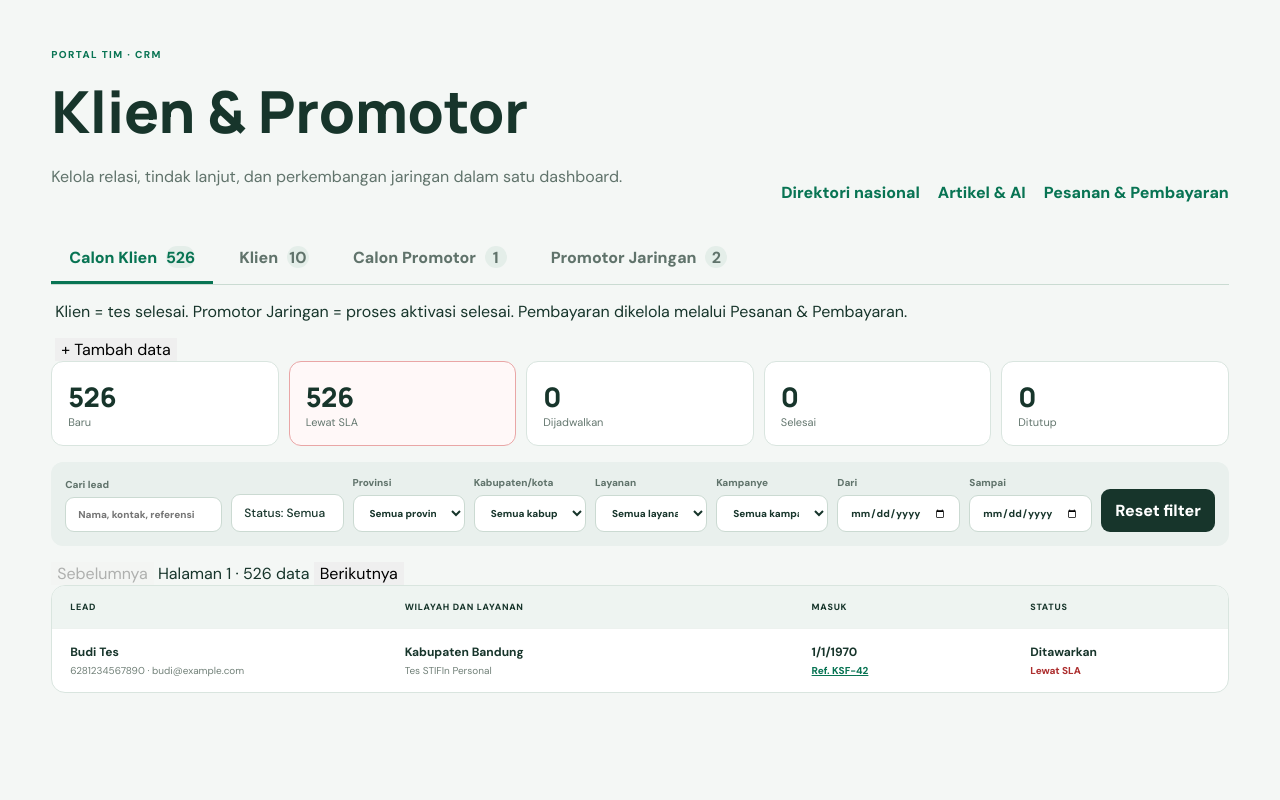
Scenario: LeadManager server queries › ignores an old list response that resolves after a newer search
This screenshot has width=1280, height=800.
Type "Old" into the field labelled "Cari lead" at (144, 514), box [65,497,222,532]
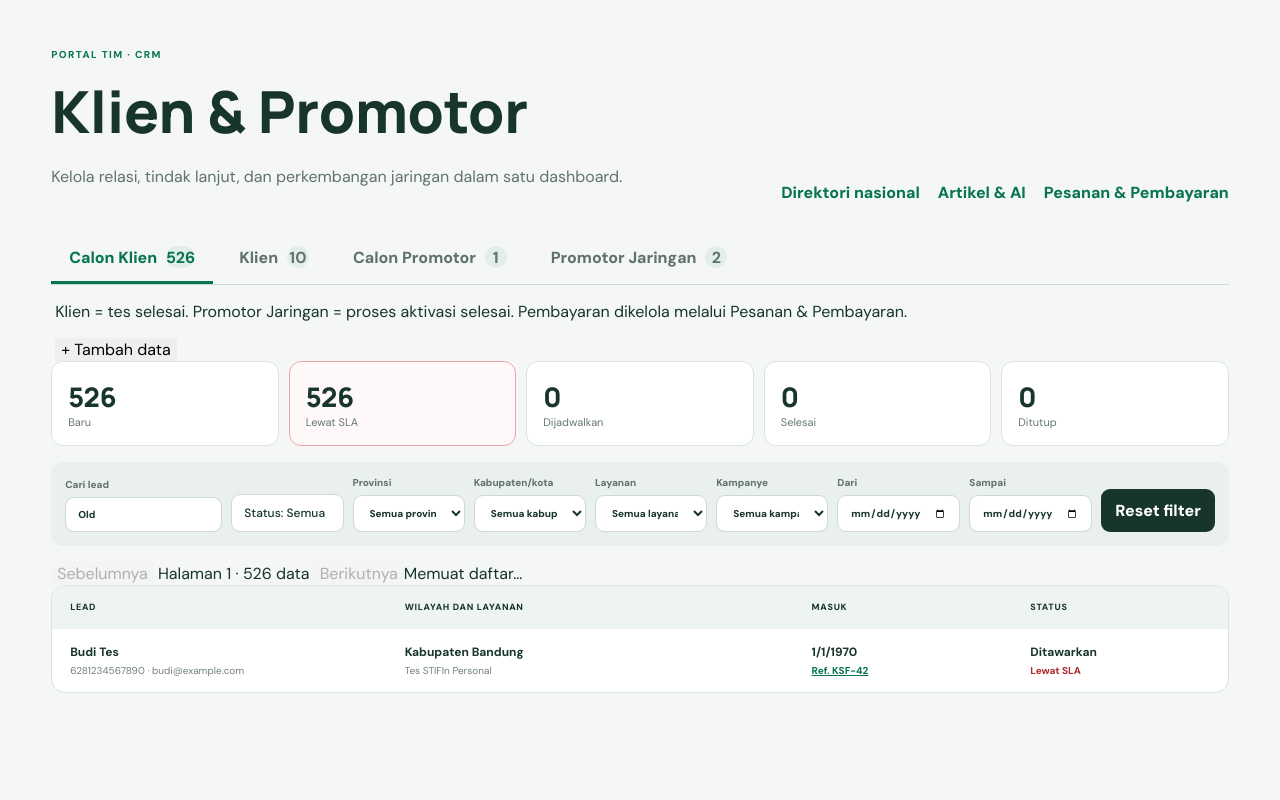
Replace the text in the field labelled "Cari lead" with "New" at (144, 514), box [65,497,222,532]
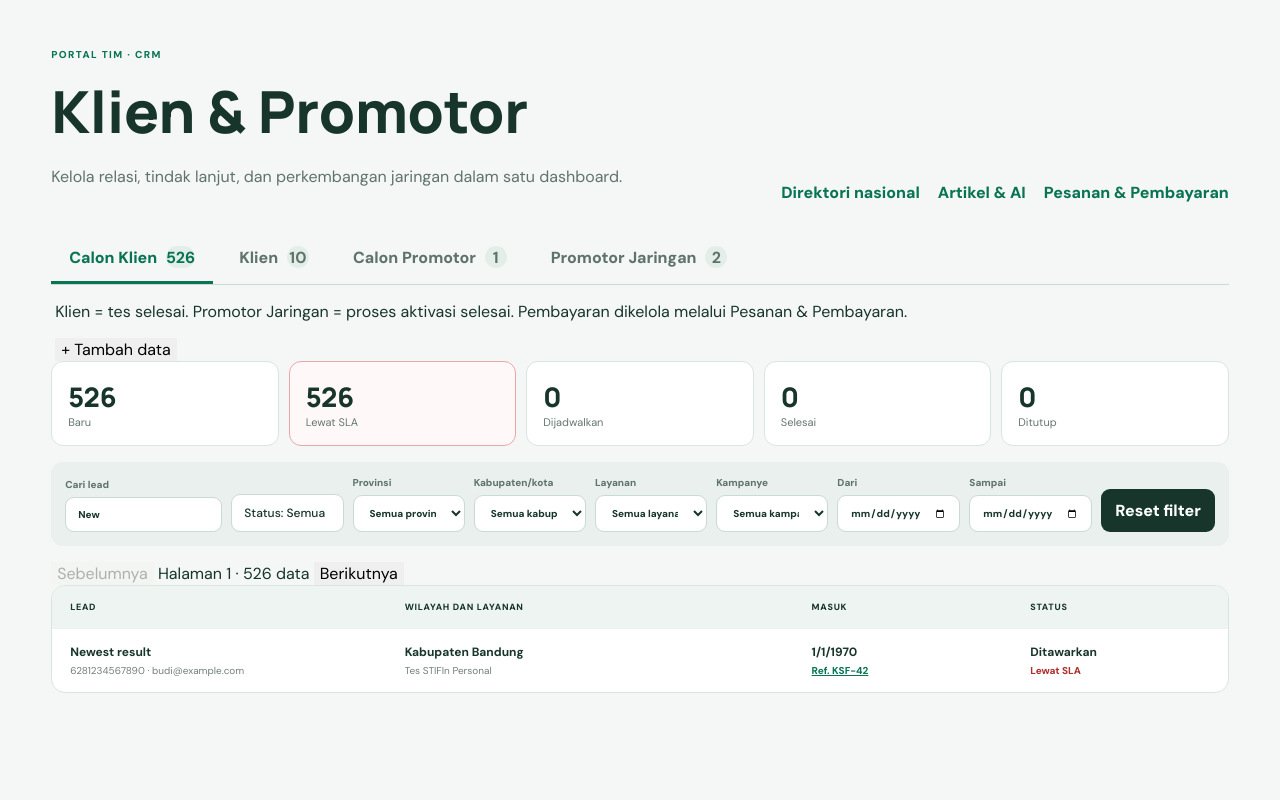
Expected: the text "Newest result" is shown, [70,644,151,660]
